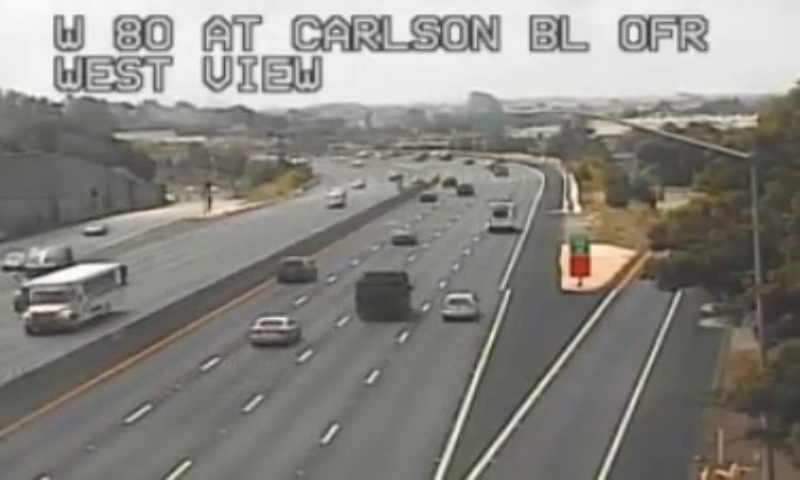bus: (485, 202, 514, 232)
car: (249, 315, 300, 345), (440, 294, 478, 321), (276, 256, 314, 283)
small-truck: (355, 272, 408, 321)
